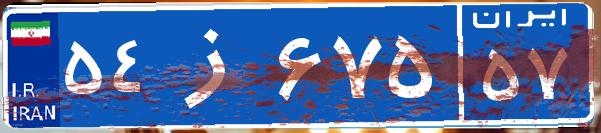4: (110, 28, 158, 105)
5: (385, 28, 445, 110), (57, 26, 110, 107), (475, 38, 525, 113)
6: (273, 28, 330, 110)
7: (330, 28, 385, 110), (525, 38, 570, 115)
ز: (158, 15, 273, 115)
